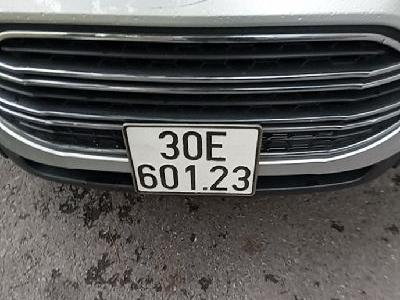lisence: (122, 124, 262, 196)
